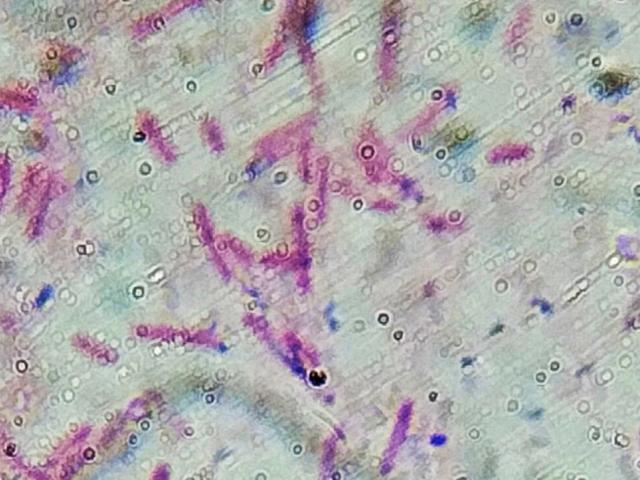E. coli: (368, 402, 417, 471), (251, 316, 319, 365), (116, 0, 197, 41), (373, 0, 409, 86), (138, 319, 227, 352), (99, 393, 147, 450), (51, 422, 97, 478), (40, 33, 81, 91), (261, 105, 319, 146), (191, 203, 222, 278), (31, 180, 62, 251), (411, 85, 454, 134), (136, 103, 171, 163), (0, 434, 45, 480), (265, 0, 294, 70), (309, 424, 345, 480), (315, 159, 343, 225), (66, 326, 118, 361), (296, 26, 321, 96), (502, 3, 530, 65), (476, 137, 532, 167), (291, 205, 313, 281), (195, 113, 228, 161), (145, 447, 186, 480), (225, 232, 260, 269), (363, 132, 390, 176), (0, 80, 30, 112), (365, 193, 399, 221), (268, 247, 307, 269), (16, 163, 35, 208), (302, 136, 317, 185), (0, 142, 12, 198)
